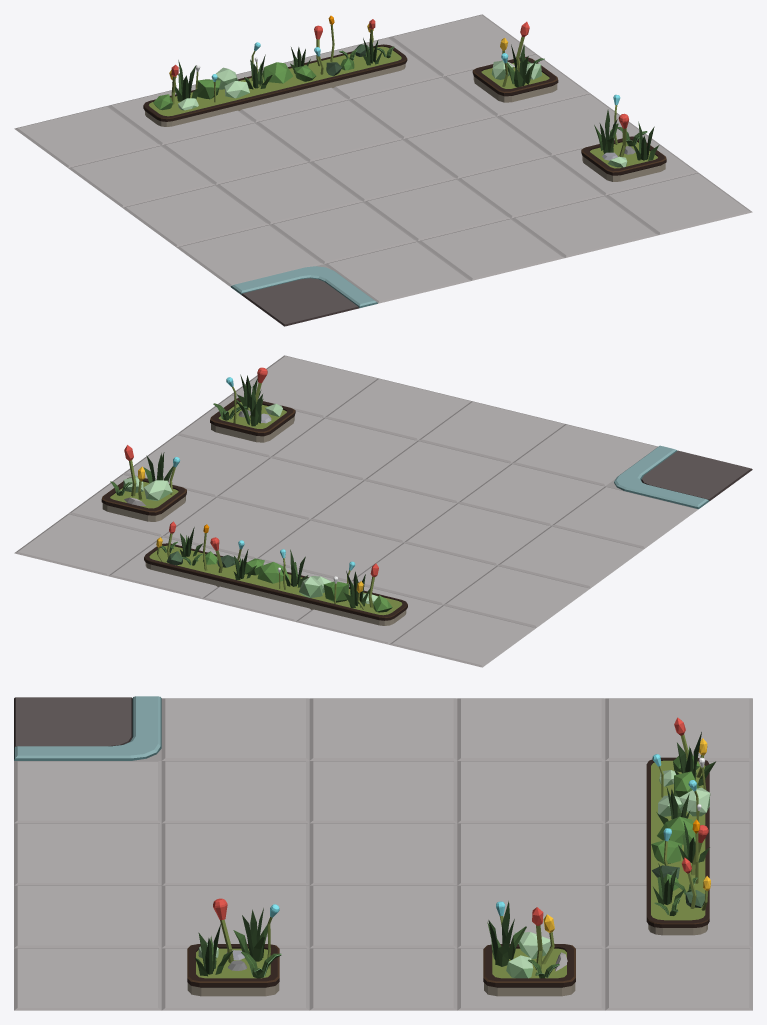
The model's file is OpenFork_B.glb.
The picture shows the model from 3 angles, top to bottom: view 1: azimuth 30°, elevation 25°; view 2: azimuth 150°, elevation 25°; view 3: azimuth 270°, elevation 25°; orthographic projection. The views are drawn at different scales.
Visible parts, largest first — view 1: OpenFork_B, Cube.240, Cube.238, Cube.239, Grass_03.566; view 2: OpenFork_B, Cube.240, Cube.238, Cube.239; view 3: OpenFork_B, Cube.240, Cube.238, Cube.239, Grass_03.566, Grass_03.564, Grass_03.565, Flower03.1675, Grass_03.570, Tree_03.1425, Tree_03.1426, Tree_03.1424 (+2 smaller).
Boxes of the visible parts, left/top/right/bottom form: OpenFork_B: left=14, top=14, right=752, bottom=326; Cube.240: left=143, top=44, right=407, bottom=126; Cube.238: left=581, top=136, right=666, bottom=181; Cube.239: left=472, top=57, right=558, bottom=102; Grass_03.566: left=504, top=44, right=535, bottom=87; OpenFork_B: left=14, top=355, right=752, bottom=667; Cube.240: left=144, top=543, right=407, bottom=625; Cube.238: left=210, top=398, right=295, bottom=442; Cube.239: left=101, top=476, right=186, bottom=521; OpenFork_B: left=14, top=696, right=752, bottom=1010; Cube.240: left=646, top=757, right=709, bottom=935; Cube.238: left=187, top=944, right=279, bottom=996; Cube.239: left=483, top=944, right=575, bottom=996; Grass_03.566: left=487, top=901, right=526, bottom=966; Grass_03.564: left=233, top=908, right=267, bottom=961; Grass_03.565: left=194, top=924, right=232, bottom=976; Flower03.1675: left=532, top=907, right=554, bottom=969; Grass_03.570: left=674, top=732, right=715, bottom=786; Tree_03.1425: left=657, top=816, right=695, bottom=844; Tree_03.1426: left=679, top=787, right=710, bottom=816; Tree_03.1424: left=514, top=932, right=550, bottom=959.
Size of what is drawn, in the model's own units: 16 by 2.05 by 16.
Materials: 1 (1 with a texture image).
